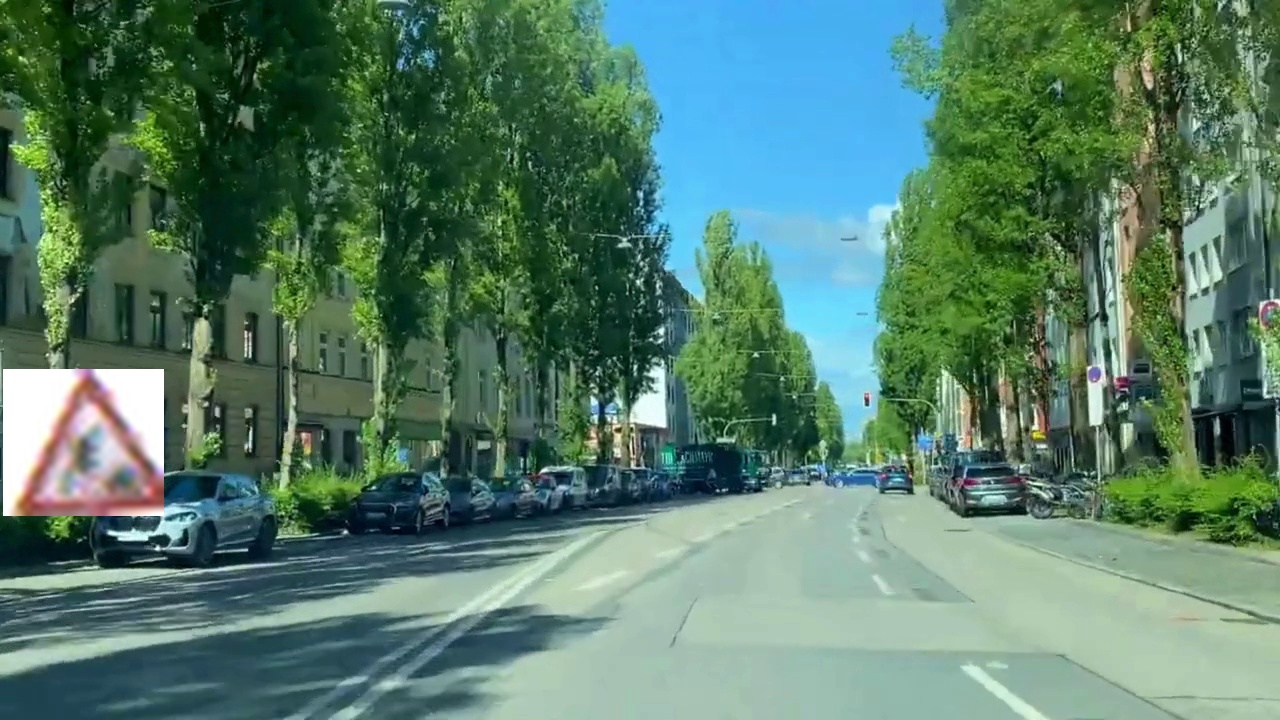Road work: (3, 369, 164, 516)
